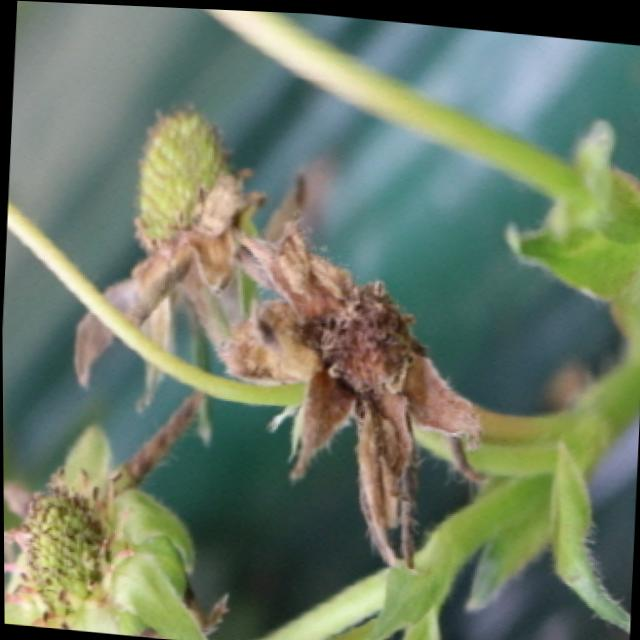Gray Mold: (212, 209, 490, 565)
